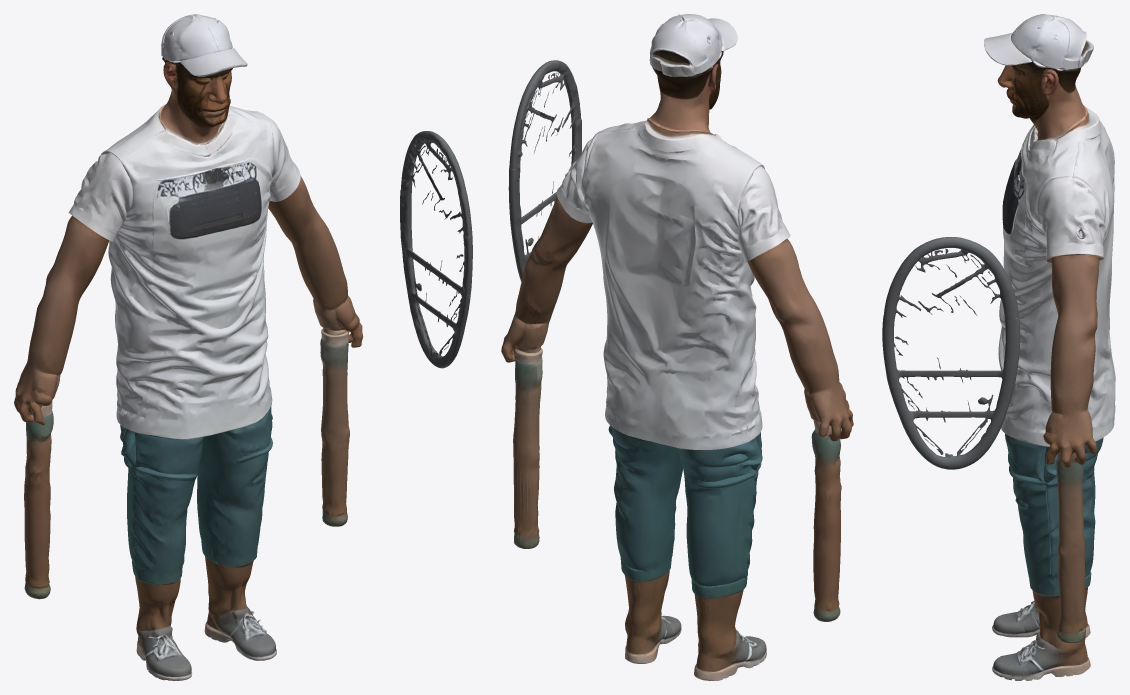
Rendered from rodin-djokovic.glb.
3 renders of one model, left to right at view 1: azimuth 30°, elevation 25°; view 2: azimuth 150°, elevation 25°; view 3: azimuth 270°, elevation 25°, orthographic.
Visible parts, largest first — view 1: model; view 2: model; view 3: model.
Boxes of the visible parts, box(x1,y1,x2,y2) form: model: box(14, 14, 472, 680); model: box(501, 14, 853, 680); model: box(882, 14, 1115, 680).
Bounding box in the file's own units: 1.14 × 1.89 × 0.6299.
Materials: 1 (1 with a texture image).
